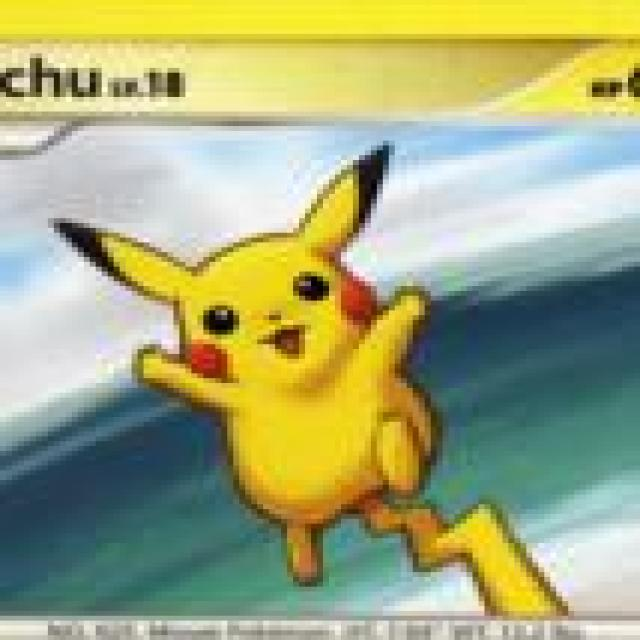pikachu: (51, 146, 564, 614)
